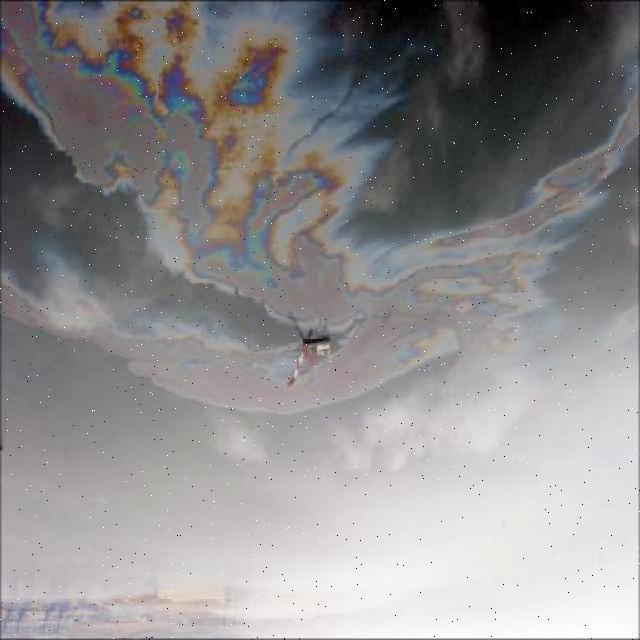oil: (2, 3, 640, 407)
